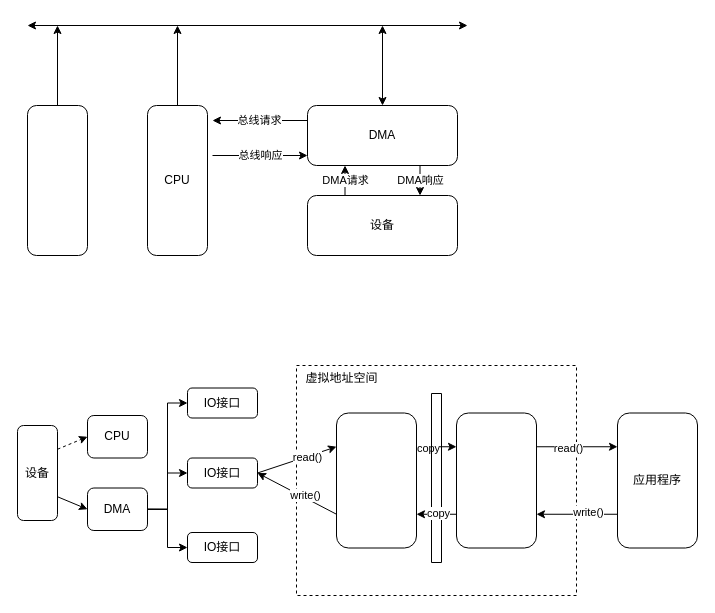
This 715x613 diagram has some shape labels left out. Here are the shapes that lost their labels. From the top down, the centre of each, then its label:
pixel 57 180: 内存
pixel 376 480: 内核地址空间
pixel 496 480: 用户地址空间
